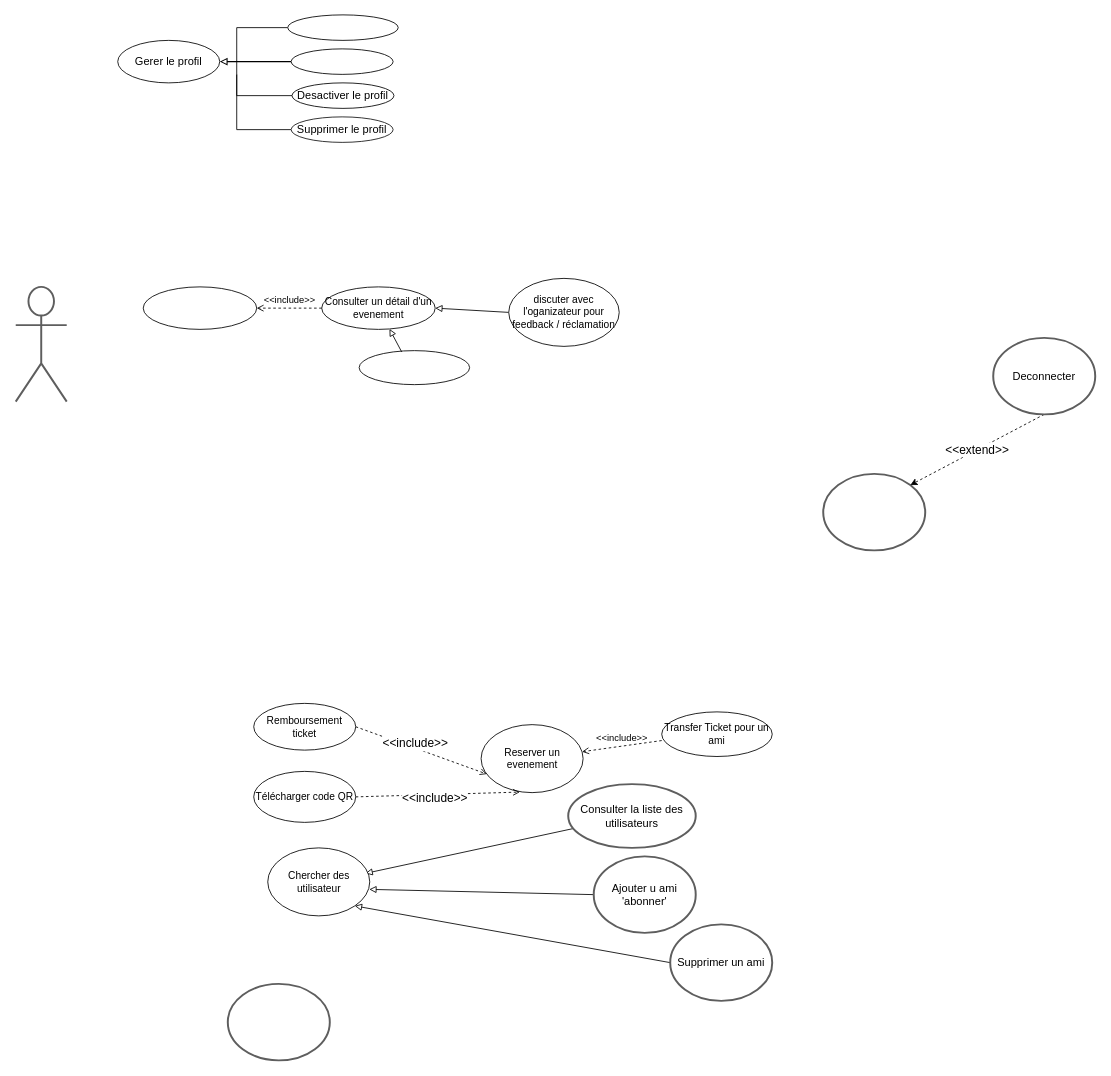
Image size: 1111x1076. Some labels were removed from this diagram. The shapes that lost their labels are listed below. From the top down, each one's centre as x and y in pixels, then its label:
At [342,27]: "Consulter mes achats".
At [341,61]: "Modifier le profil".
At [199,307]: "Consulter la liste des évenements".
At [40,344]: "Client".
At [414,367]: "Partager un évenement".
At [874,512]: "S'authentifier".
At [278,1022]: "Consulter liste ludification".
